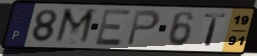6: (167, 10, 196, 48)
8: (31, 8, 61, 43)
E: (94, 7, 134, 47)
M: (52, 7, 98, 46)
P: (124, 9, 162, 48)
T: (203, 12, 229, 47)
